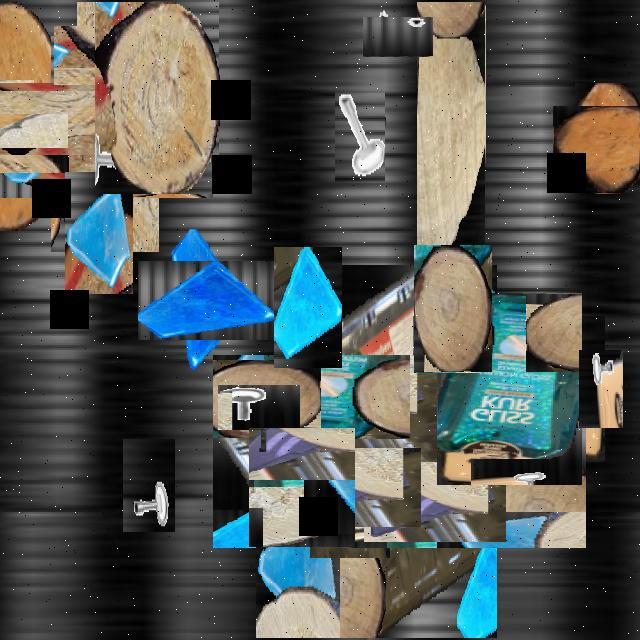glass: (256, 489, 340, 638), (153, 245, 264, 356), (294, 432, 406, 542), (65, 172, 133, 294), (274, 247, 342, 368)
metal: (65, 13, 148, 97), (123, 439, 175, 532), (335, 92, 385, 182), (227, 375, 291, 439), (579, 351, 623, 428), (370, 10, 426, 65)
plastic: (258, 310, 542, 593), (424, 305, 594, 474)
wood: (24, 63, 186, 225), (95, 2, 219, 194), (417, 2, 485, 282), (0, 41, 107, 189), (245, 430, 358, 544), (414, 245, 492, 374), (563, 94, 640, 182), (0, 97, 51, 165)
